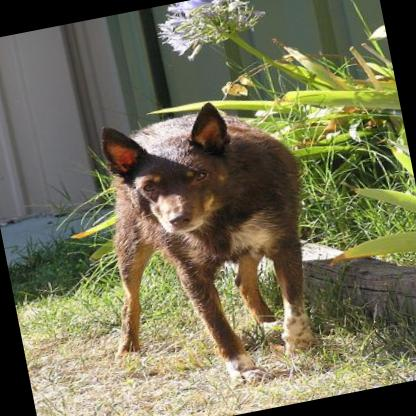kelpie: (75, 84, 340, 406)
